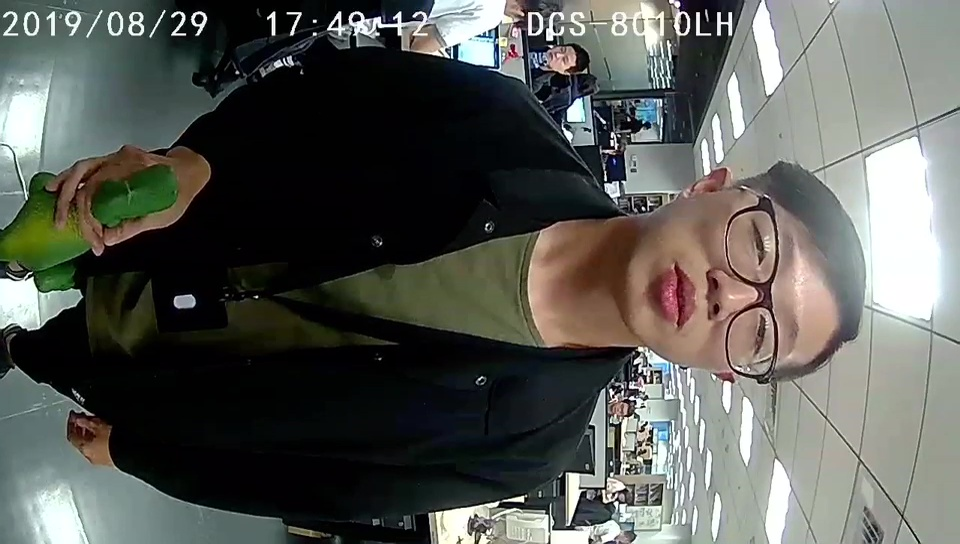rex: (10, 162, 179, 292)
